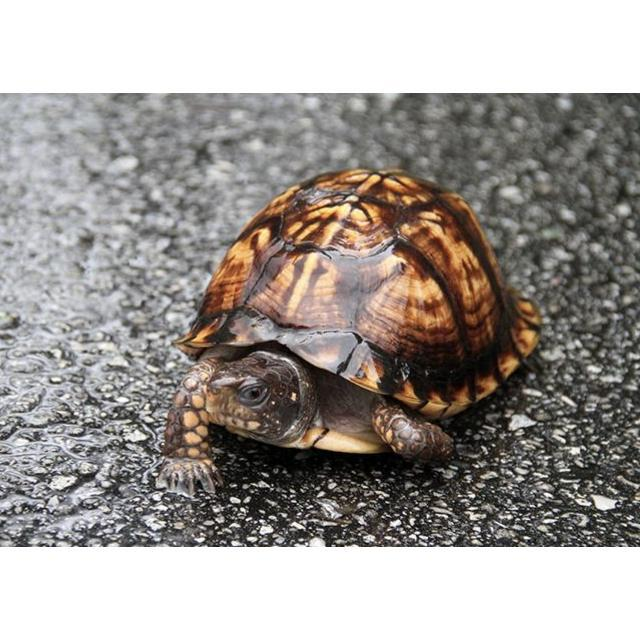turtle: (157, 168, 544, 496)
